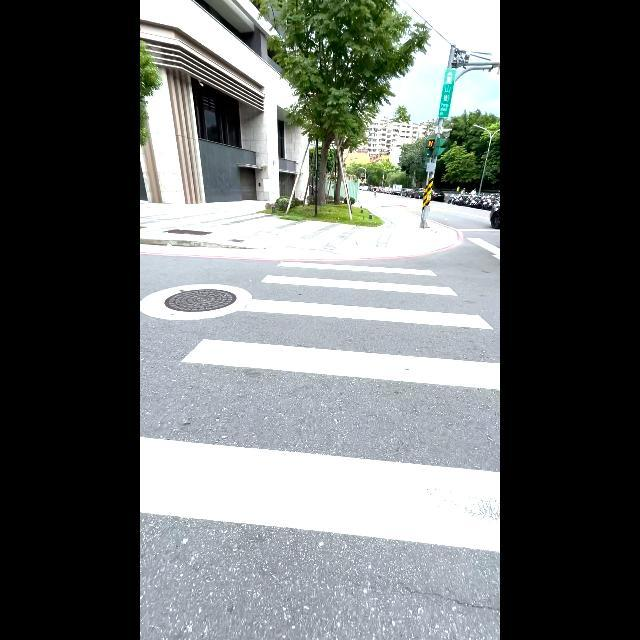sidewalk: (140, 259, 497, 554)
